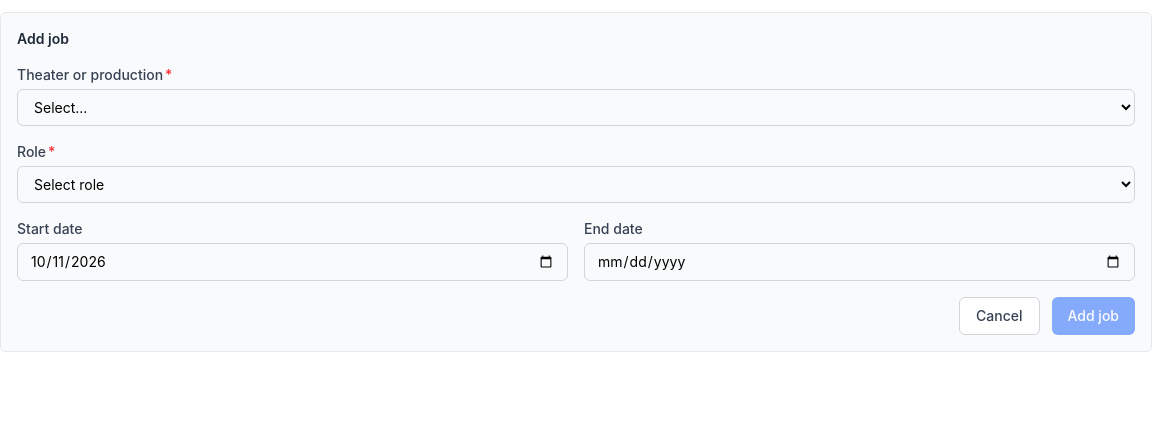
Test: AddJobToUserForm — payment warning › shows payment warning when target user is unsubscribed and role is admin
The width and height of the screenshot is (1152, 447).
Select "Theater One" in the dropdown below "Theater or production": (576, 108) [17, 89, 1135, 126]
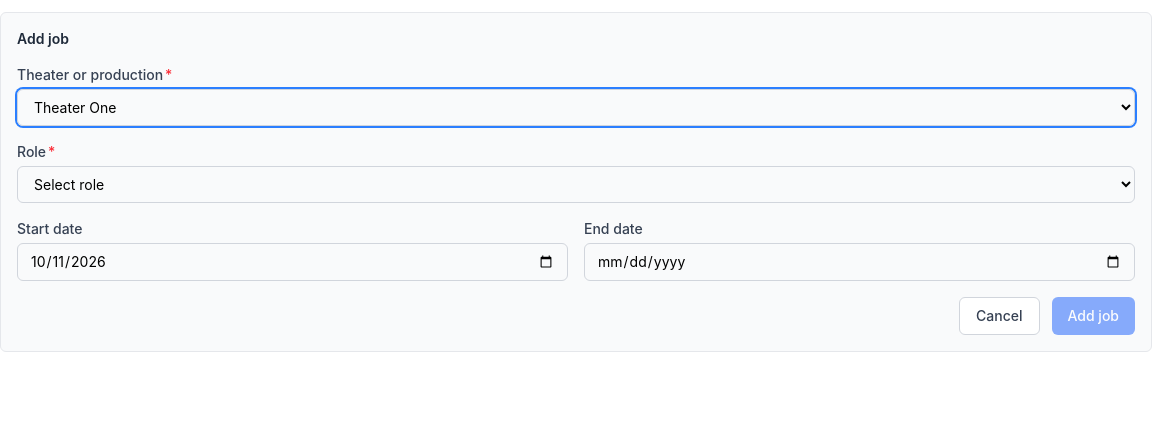
Select "Director" in the dropdown below "Role": (576, 184) [17, 166, 1135, 203]
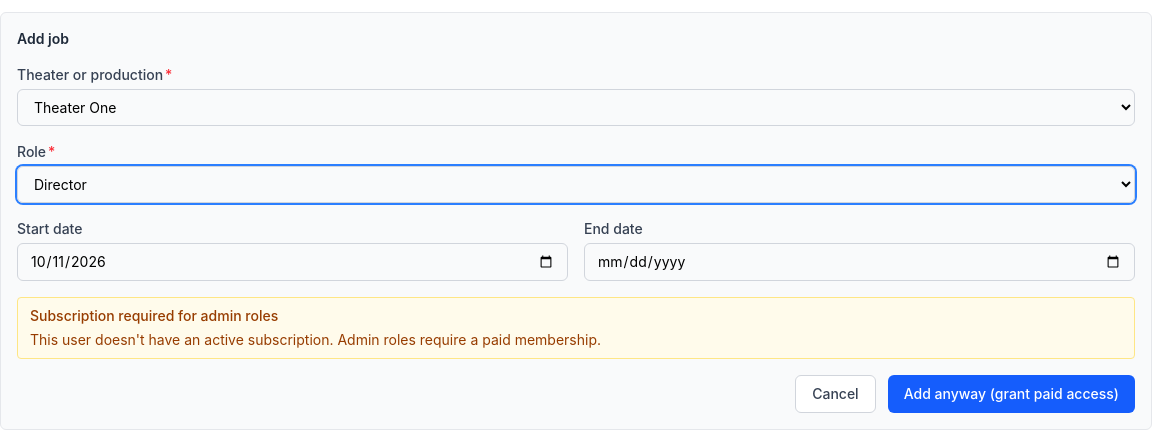
Expected: the text "Subscription required for admin roles" is shown, [30, 307, 278, 324]
